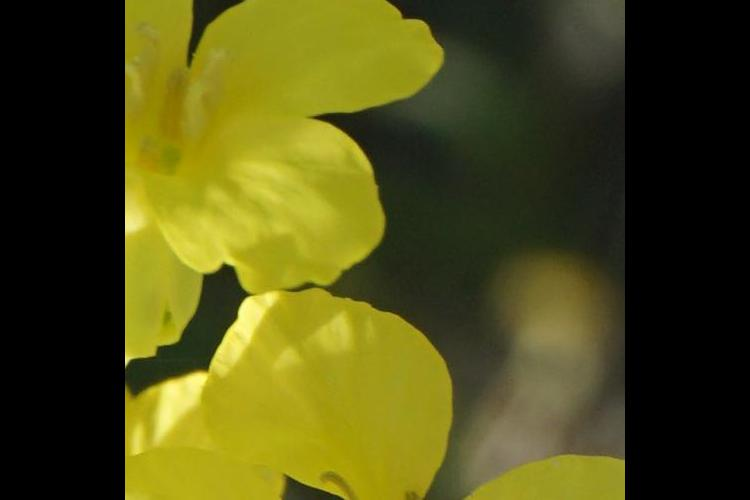yellow: (144, 1, 436, 294), (147, 332, 618, 500)
